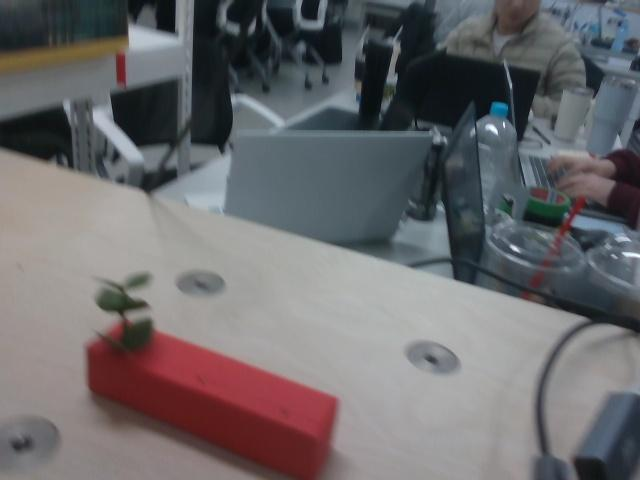leaf: (93, 272, 155, 357)
